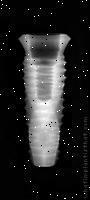Cowellmedi: (18, 34, 72, 168)
